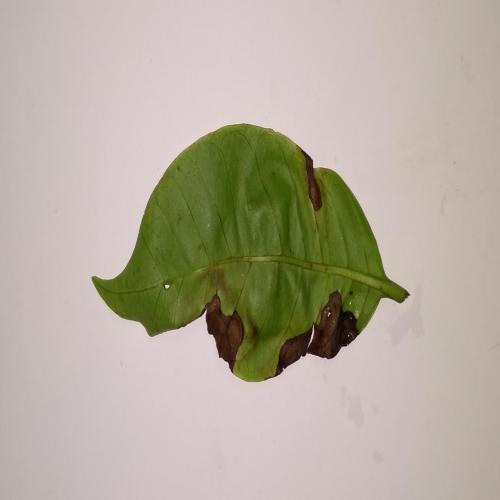miner: (301, 148, 322, 210)
